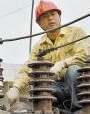boots: (0, 104, 15, 114)
gloves: (48, 60, 66, 74), (0, 71, 6, 87)
hard-hat: (33, 0, 60, 23)
